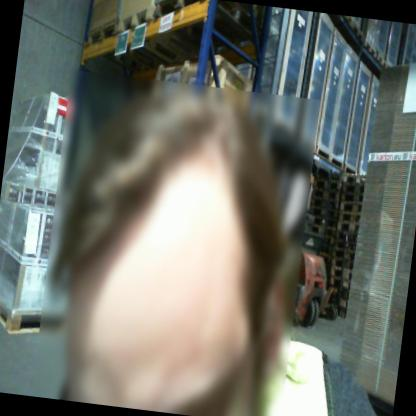forklift: (251, 150, 343, 331)
pallet: (0, 293, 72, 339), (115, 1, 154, 35), (151, 0, 204, 23), (85, 16, 118, 48), (307, 193, 339, 208), (308, 184, 341, 198), (308, 215, 336, 229), (308, 204, 338, 217), (309, 225, 335, 239), (342, 171, 366, 184), (332, 257, 354, 271), (341, 181, 364, 194), (340, 191, 363, 204), (339, 201, 362, 214), (337, 211, 360, 224), (335, 221, 359, 233), (334, 229, 358, 241), (334, 248, 355, 260), (335, 239, 356, 250), (333, 269, 352, 280), (333, 277, 350, 288), (338, 287, 349, 298)
pallet_truck: (319, 228, 352, 322)
